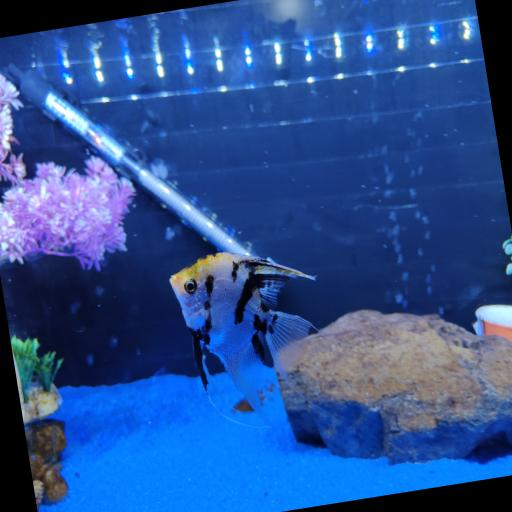Fish: (169, 252, 314, 424)
